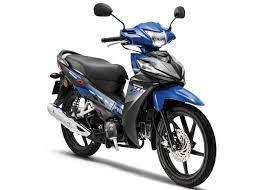motorcycle: (43, 2, 224, 190)
